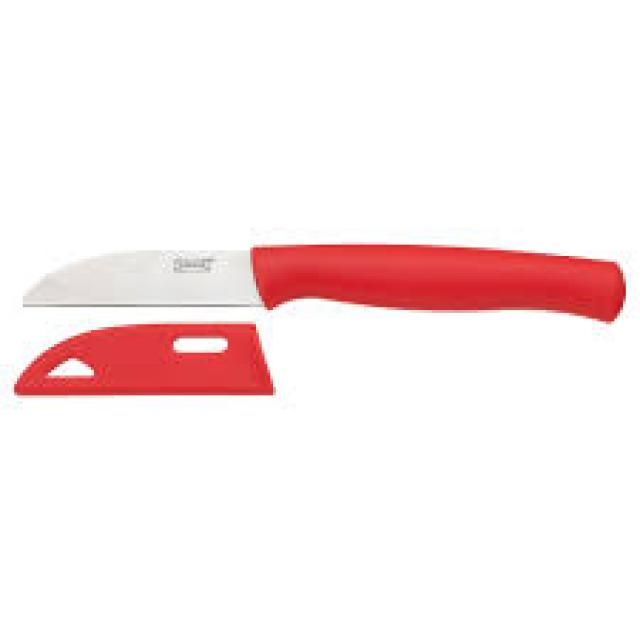knives: (12, 194, 640, 342)
